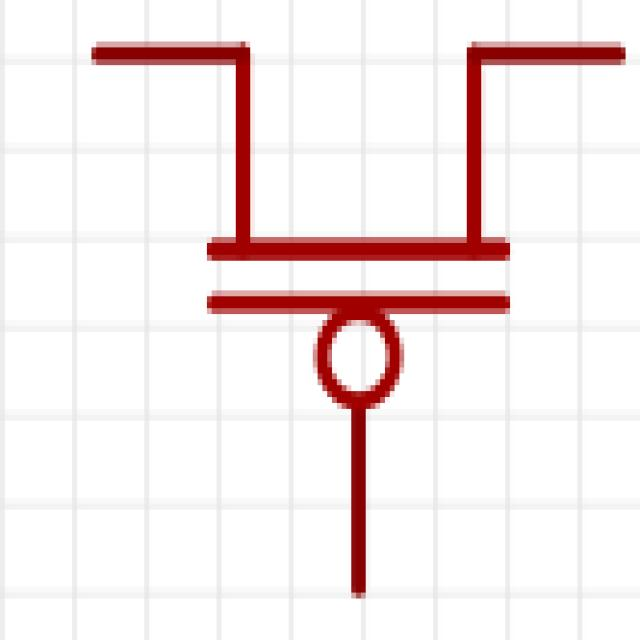pmos: (103, 14, 640, 640)
